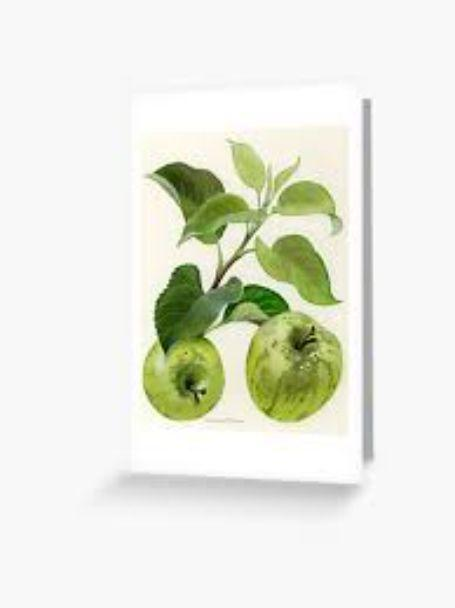BLOTCH: (236, 307, 356, 432), (119, 314, 232, 425)
